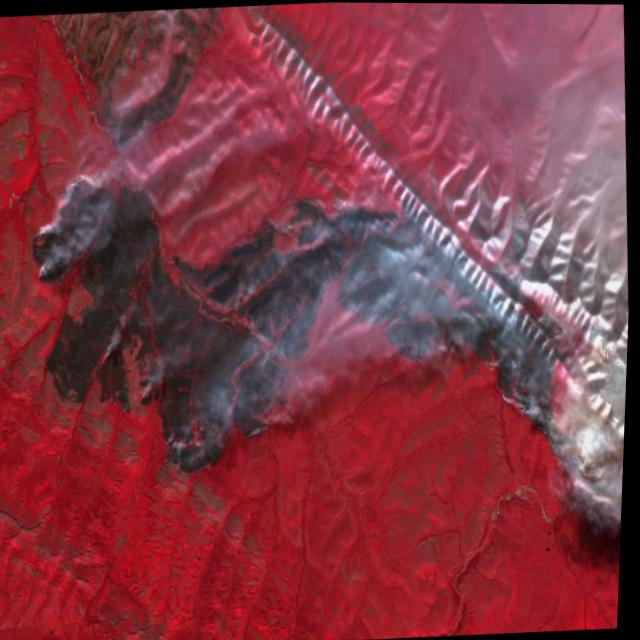fire: (14, 135, 604, 503)
